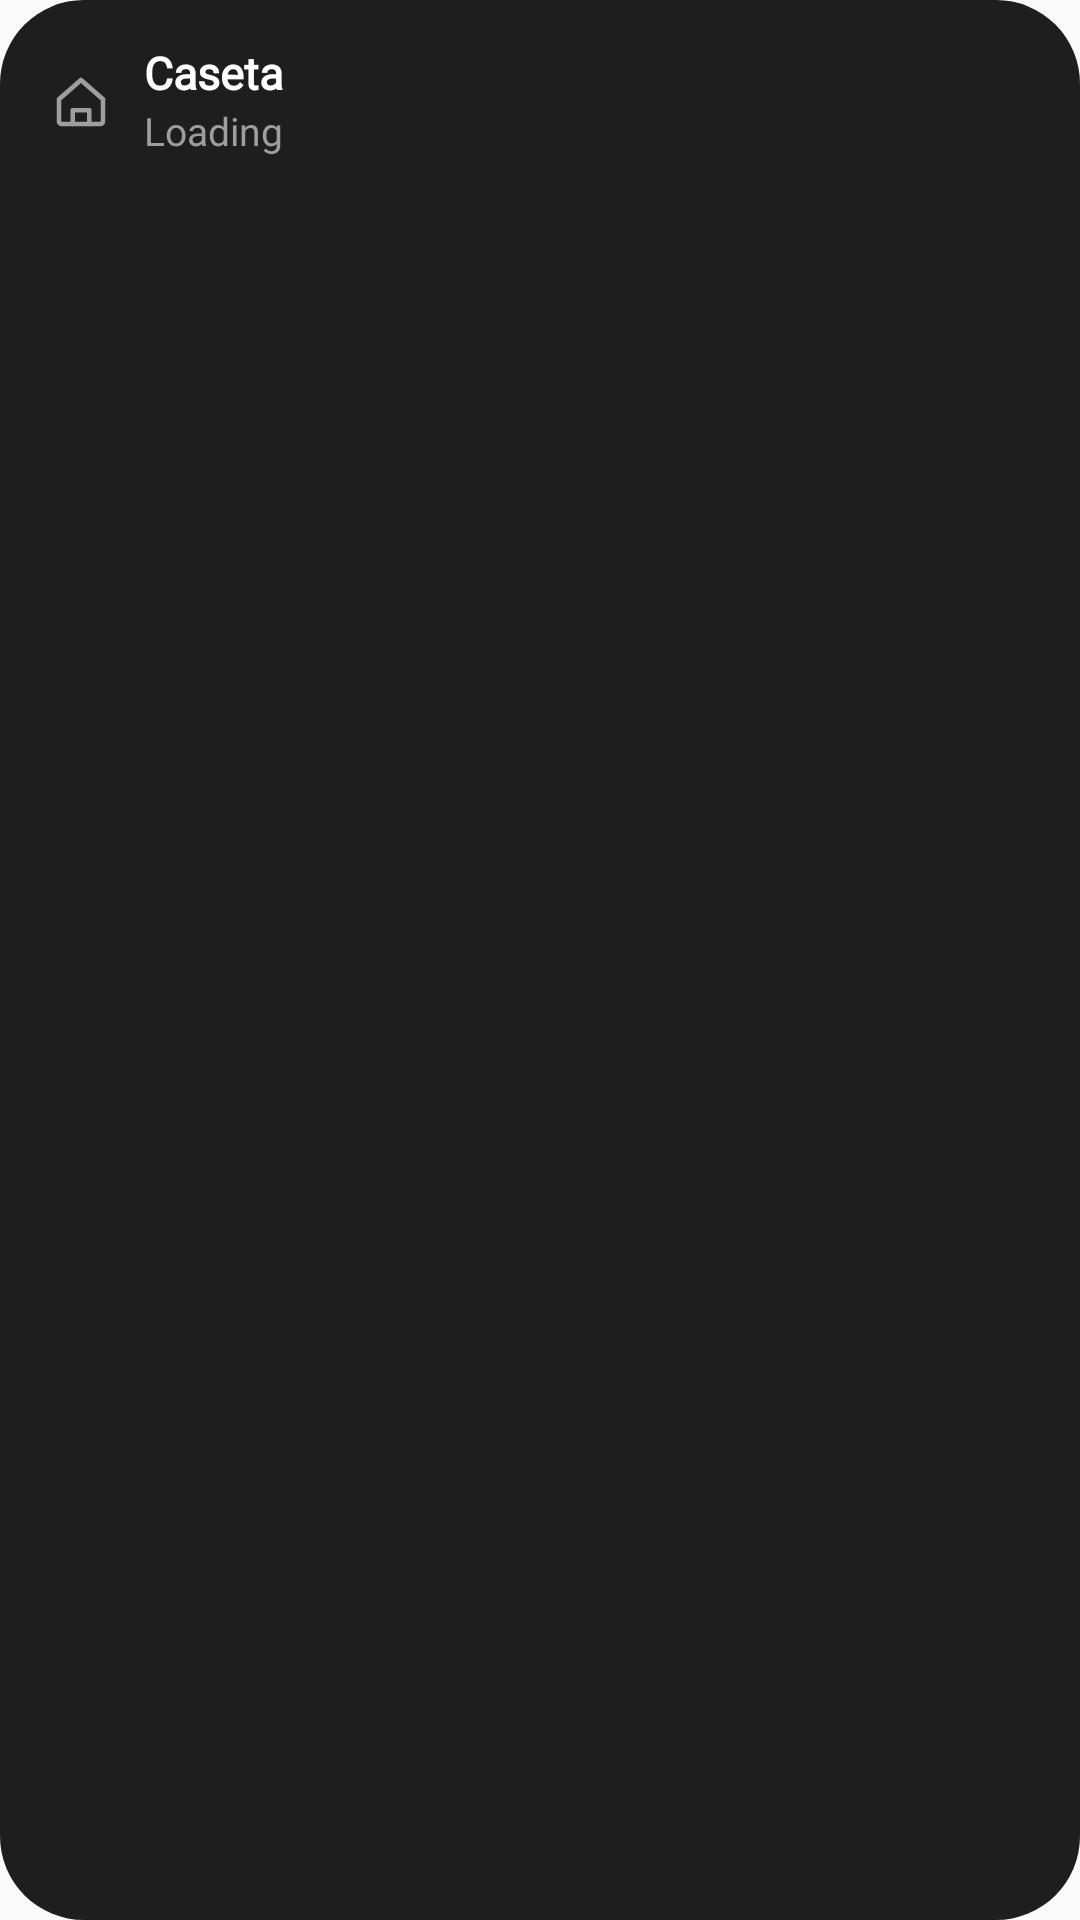

Icons on this 1080 x 1920 Android screen, each with its box as (x1, y1, x2, y2):
wi home: (56, 77, 106, 127)
